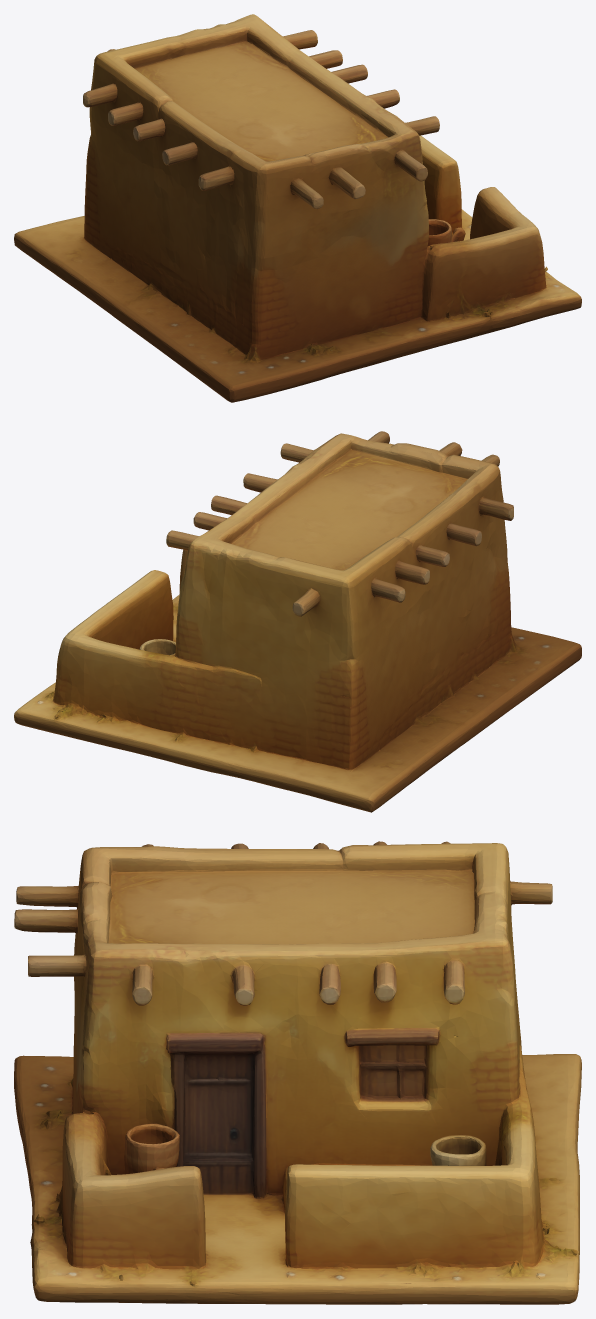
The model's file is jalous_house.glb.
3 renders of one model, top to bottom at view 1: azimuth 30°, elevation 25°; view 2: azimuth 150°, elevation 25°; view 3: azimuth 270°, elevation 25°, orthographic. The views are drawn at different scales.
Visible parts, largest first — view 1: world; view 2: world; view 3: world.
Part boxes in pixels (x1=…): world: x1=14, y1=14, x2=581, y2=402; world: x1=14, y1=431, x2=581, y2=812; world: x1=14, y1=841, x2=581, y2=1304.
Bounding box in the file's own units: 0.9722 × 0.5219 × 0.9956.
Materials: 1 (1 with a texture image).
